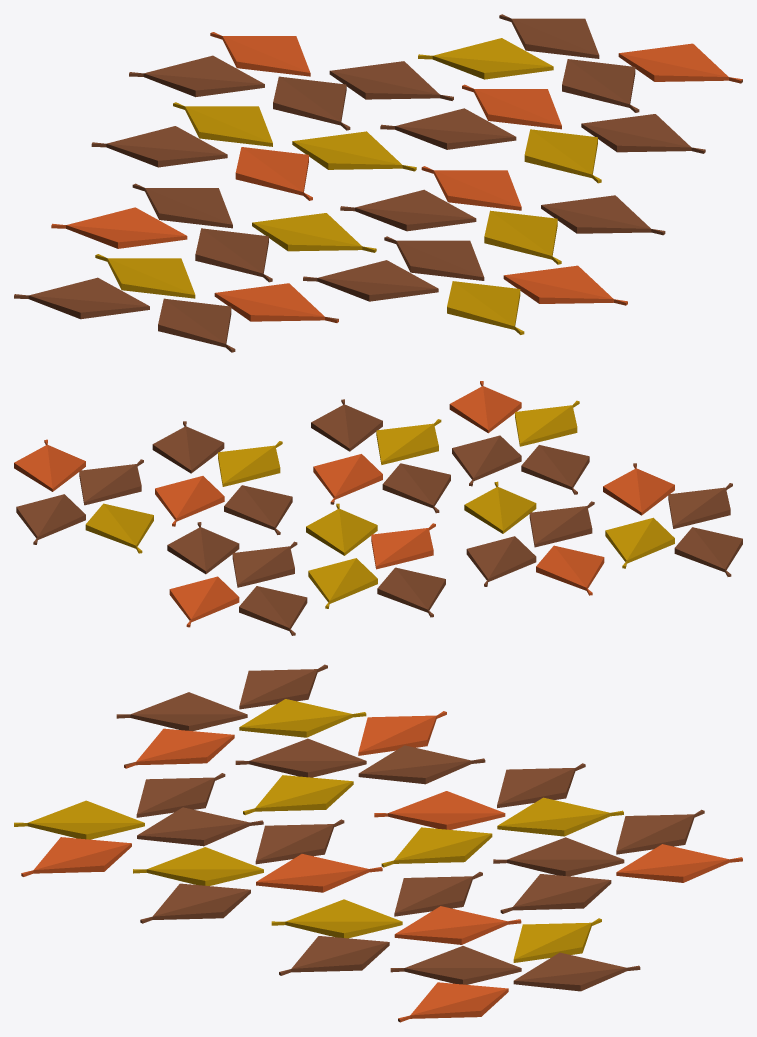
File: map.fbx
3 renders of one model, top to bottom at view 1: azimuth 30°, elevation 25°; view 2: azimuth 150°, elevation 25°; view 3: azimuth 270°, elevation 25°, orthographic. The views are drawn at different scales.
Visible parts, largest first — view 1: Plane, Plane.001, Plane.002; view 2: Plane, Plane.001, Plane.002; view 3: Plane, Plane.002, Plane.001.
Part boxes in pixels (<box>): Plane: <box>14,14,742,352</box>; Plane.001: <box>51,32,742,322</box>; Plane.002: <box>95,38,601,334</box>; Plane: <box>16,399,742,635</box>; Plane.001: <box>14,381,674,627</box>; Plane.002: <box>85,400,674,608</box>; Plane: <box>116,664,704,1022</box>; Plane.002: <box>14,699,623,962</box>; Plane.001: <box>21,711,742,1022</box>.
Bounding box in the file's own units: 3150 × 37.24 × 2732.
